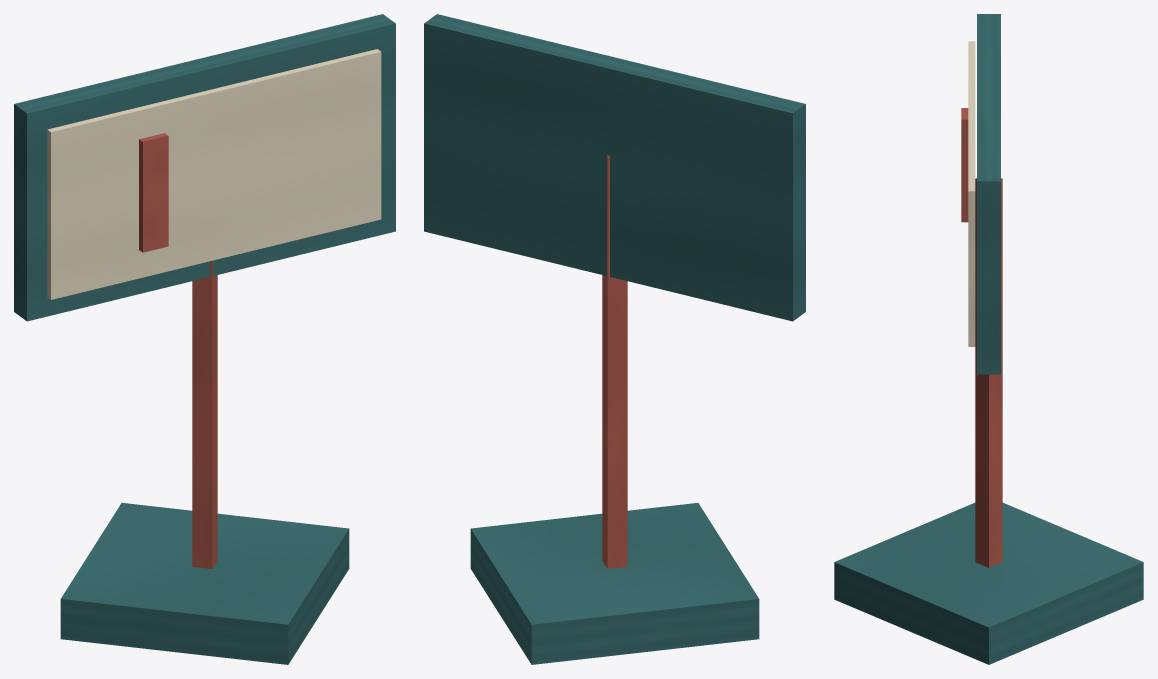
File: atlas100-s032-a11.lod2.glb
3 views of the same model, side by side, from view 1: azimuth 30°, elevation 25°; view 2: azimuth 150°, elevation 25°; view 3: azimuth 270°, elevation 25° (orthographic). The views are drawn at different scales.
Parts seen in each view (by area): view 1: atlas100-s032-a11:part-003, atlas100-s032-a11:part-000, atlas100-s032-a11:part-002, atlas100-s032-a11:part-001, atlas100-s032-a11:part-004; view 2: atlas100-s032-a11:part-002, atlas100-s032-a11:part-000, atlas100-s032-a11:part-001; view 3: atlas100-s032-a11:part-000, atlas100-s032-a11:part-002, atlas100-s032-a11:part-001, atlas100-s032-a11:part-003, atlas100-s032-a11:part-004.
Part boxes in pixels (x1,y1,x2,y2): atlas100-s032-a11:part-003: (47,49,381,299); atlas100-s032-a11:part-000: (60,503,349,664); atlas100-s032-a11:part-002: (14,14,395,321); atlas100-s032-a11:part-001: (192,260,217,568); atlas100-s032-a11:part-004: (139,133,168,252); atlas100-s032-a11:part-002: (424,14,805,321); atlas100-s032-a11:part-000: (470,503,759,664); atlas100-s032-a11:part-001: (602,155,627,568); atlas100-s032-a11:part-000: (834,503,1143,664); atlas100-s032-a11:part-002: (977,14,1000,374); atlas100-s032-a11:part-001: (975,178,1002,567); atlas100-s032-a11:part-003: (968,41,975,346); atlas100-s032-a11:part-004: (961,108,968,222).
Bounding box in the file's own units: 1.15 × 1.61 × 0.9.
3 materials, 3 textured.
